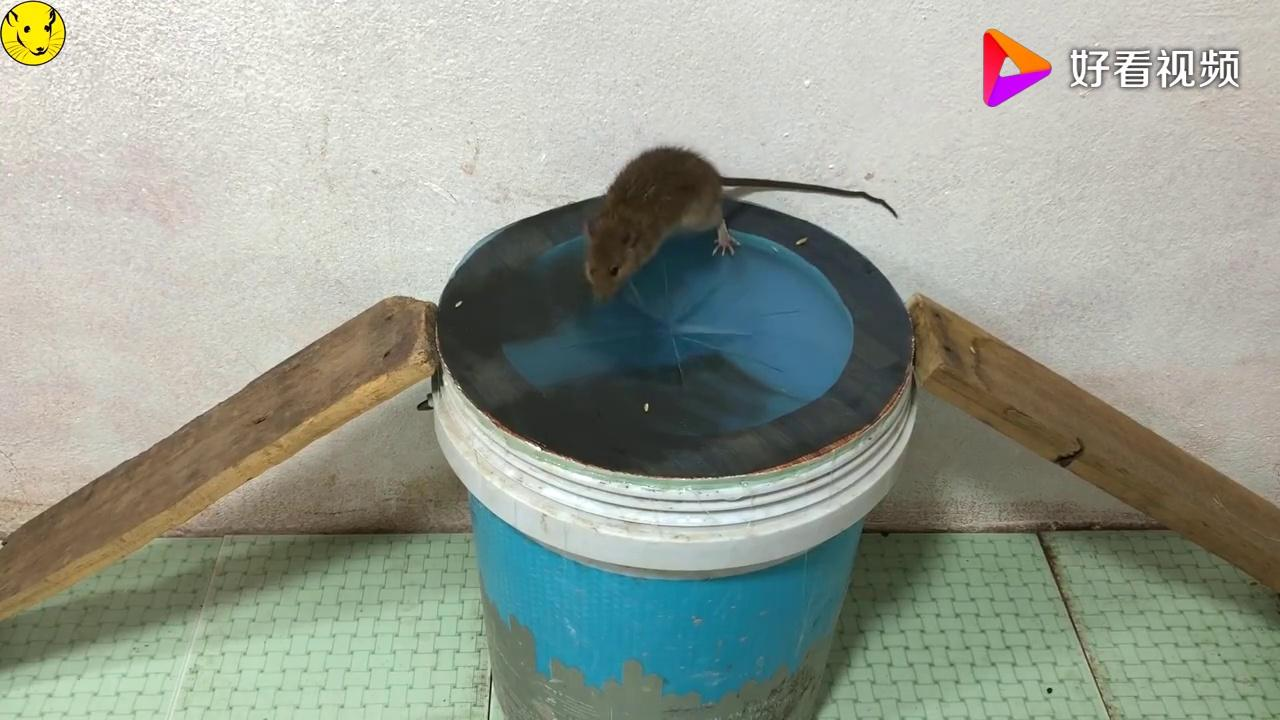rat: (573, 128, 768, 310)
